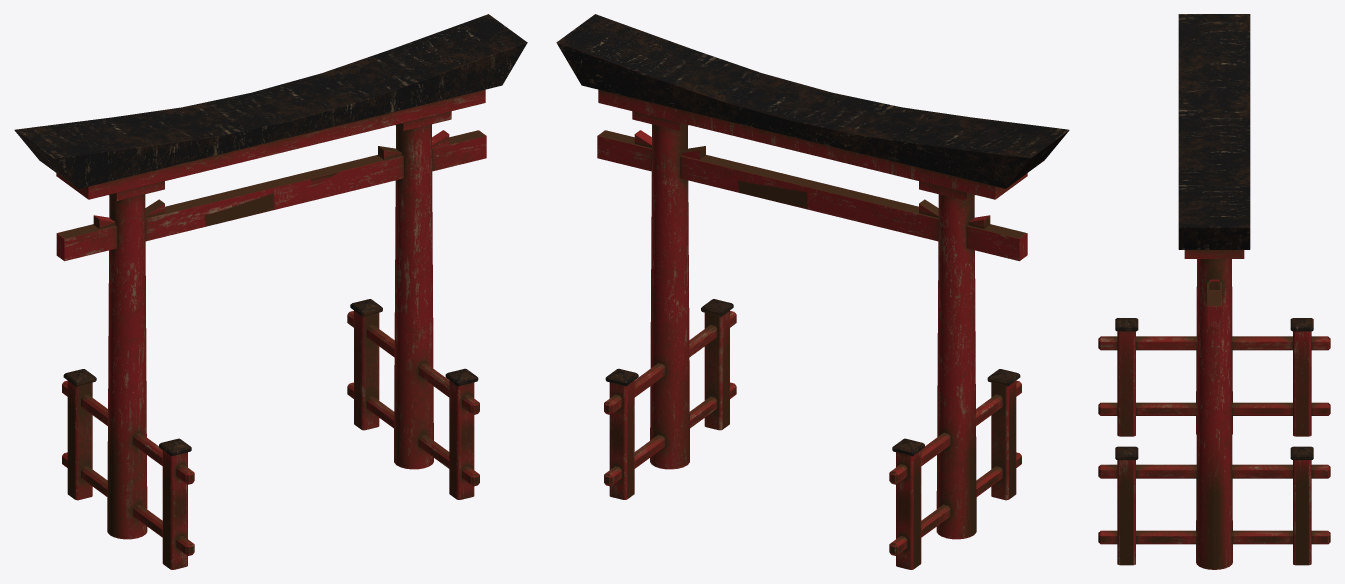
Rendered from torii.glb.
The picture shows the model from 3 angles, left to right: view 1: azimuth 30°, elevation 25°; view 2: azimuth 150°, elevation 25°; view 3: azimuth 270°, elevation 25°; orthographic projection. The views are drawn at different scales.
Parts seen in each view (by area): view 1: Torii_gate; view 2: Torii_gate; view 3: Torii_gate.
Part boxes in pixels (x1,y1,x2,y2): Torii_gate: (14, 14, 527, 569); Torii_gate: (556, 14, 1069, 569); Torii_gate: (1098, 14, 1330, 569).
Bounding box in the file's own units: 27.13 × 22.39 × 12.5.
1 material, 1 textured.
